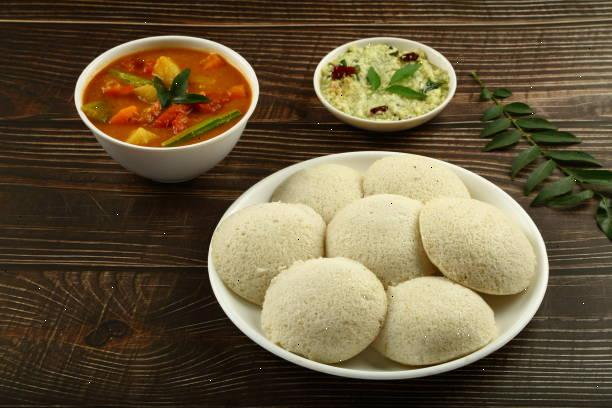coconut chutney: (332, 47, 442, 112)
idli: (215, 146, 545, 371)
sambhar: (83, 44, 244, 146)
